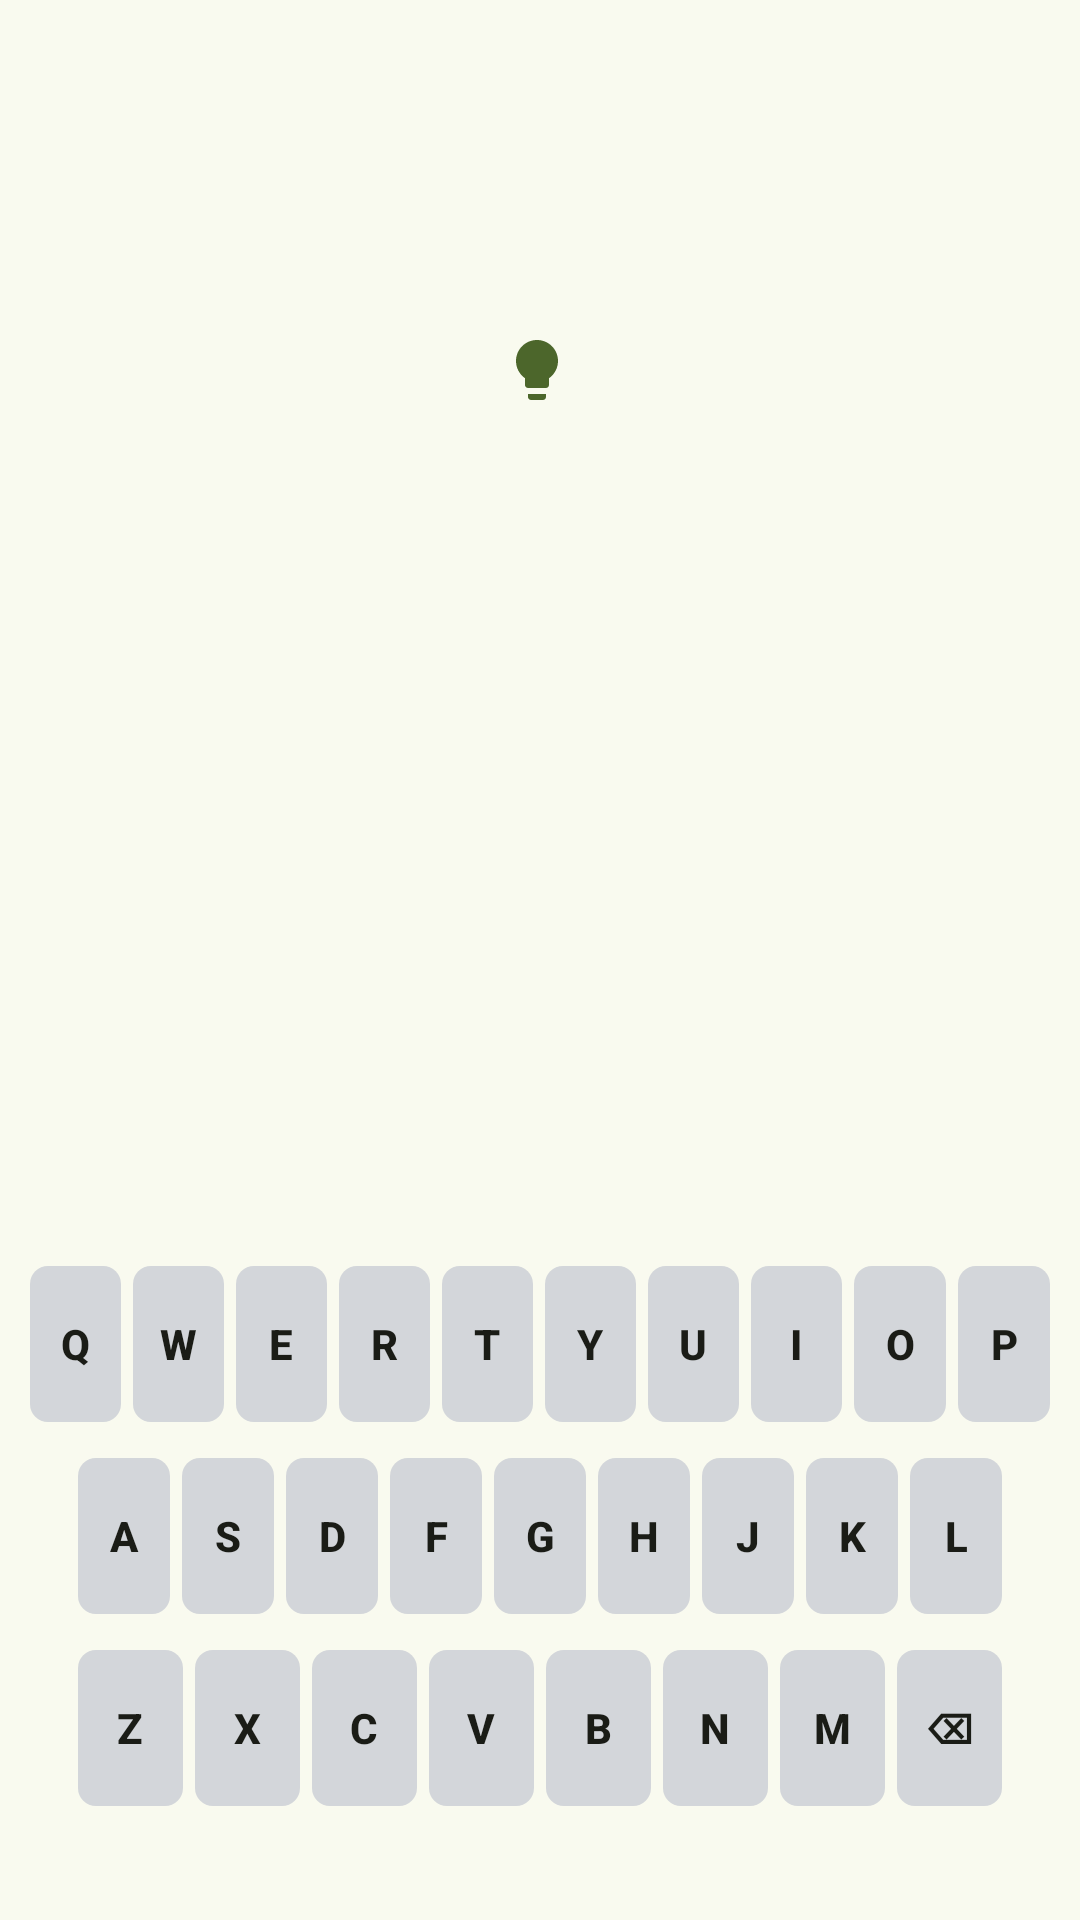

Icon click points for this 1080px×1920px phone screenshot, format (x,y):
💡 Hint: (537,370)
